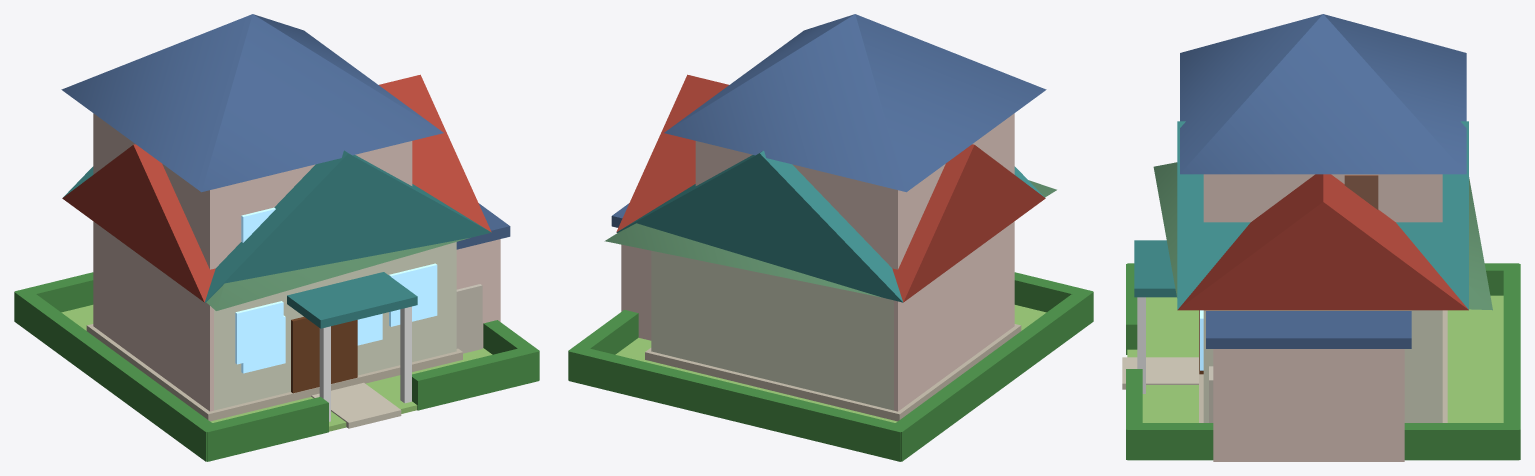
File: houses.glb
The picture shows the model from 3 angles, left to right: view 1: azimuth 30°, elevation 25°; view 2: azimuth 150°, elevation 25°; view 3: azimuth 270°, elevation 25°; orthographic projection. The views are drawn at different scales.
Visible parts, largest first — view 1: v2, v0, v3, v1; view 2: v0, v2, v3, v1; view 3: v2, v0, v3, v1.
Boxes of the visible parts, bbox=[...] form: v2: bbox=[61, 14, 510, 421]; v0: bbox=[14, 74, 539, 461]; v3: bbox=[63, 150, 491, 421]; v1: bbox=[206, 238, 469, 310]; v0: bbox=[568, 74, 1093, 461]; v2: bbox=[611, 14, 1046, 421]; v3: bbox=[616, 150, 1044, 302]; v1: bbox=[604, 180, 1056, 297]; v2: bbox=[1180, 14, 1466, 461]; v0: bbox=[1122, 174, 1520, 460]; v3: bbox=[1134, 121, 1468, 393]; v1: bbox=[1153, 162, 1492, 310].
Size of the model in its own units: 8.48 by 8.1 by 8.33.
2 materials, 2 textured.
